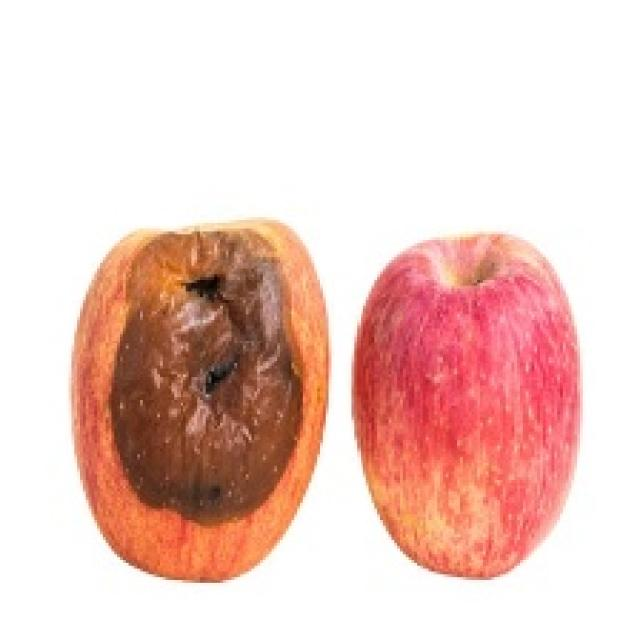rotten_apple: (74, 222, 326, 580)
